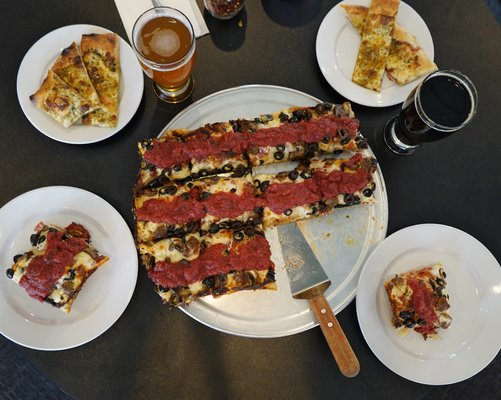pizza: (384, 70, 479, 156)
sandwich: (270, 218, 360, 377)
